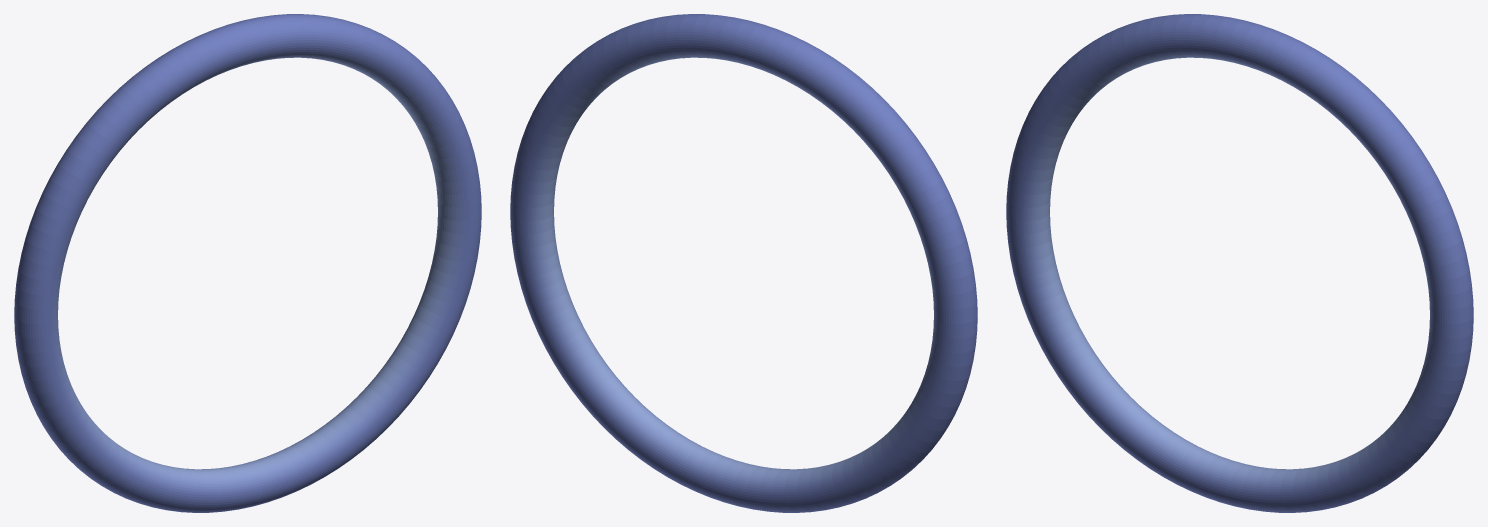
3 renders of one model, left to right at view 1: azimuth 30°, elevation 25°; view 2: azimuth 150°, elevation 25°; view 3: azimuth 330°, elevation 25°, orthographic.
Visible parts, largest first — view 1: world; view 2: world; view 3: world.
Part boxes in pixels (<box>): world: <box>14,14,481,512</box>; world: <box>510,14,977,512</box>; world: <box>1006,14,1473,512</box>.
Bounding box in the file's own units: 27.6 × 27.6 × 2.26.
